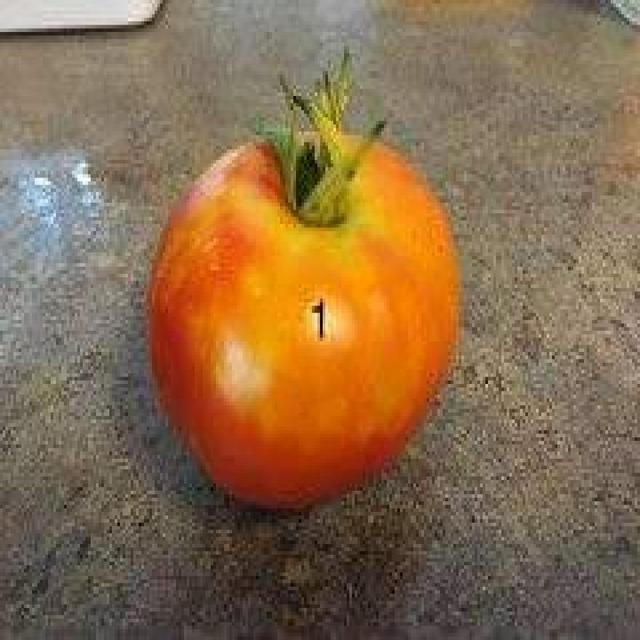Spotted wilt Virus Fruit: (99, 87, 307, 343)
